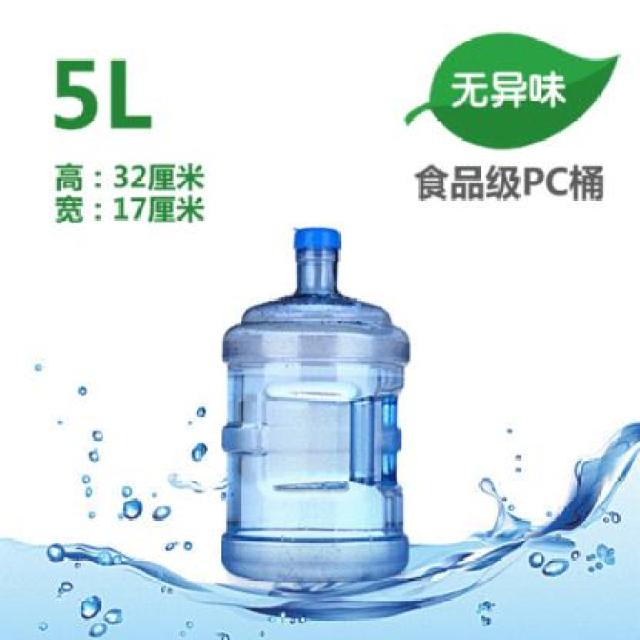coolerbottle: (217, 218, 417, 586)
